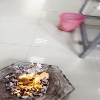fire: (14, 62, 49, 96)
